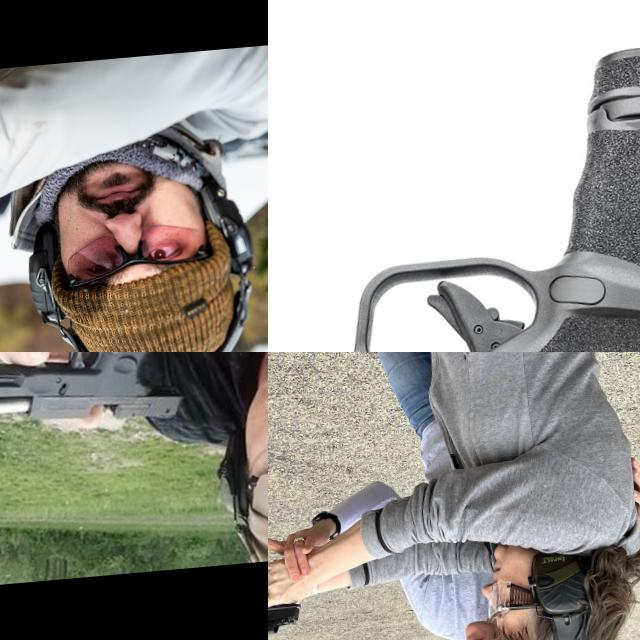handgun: (268, 29, 640, 352), (0, 352, 192, 438), (0, 248, 86, 352), (268, 585, 313, 638)
